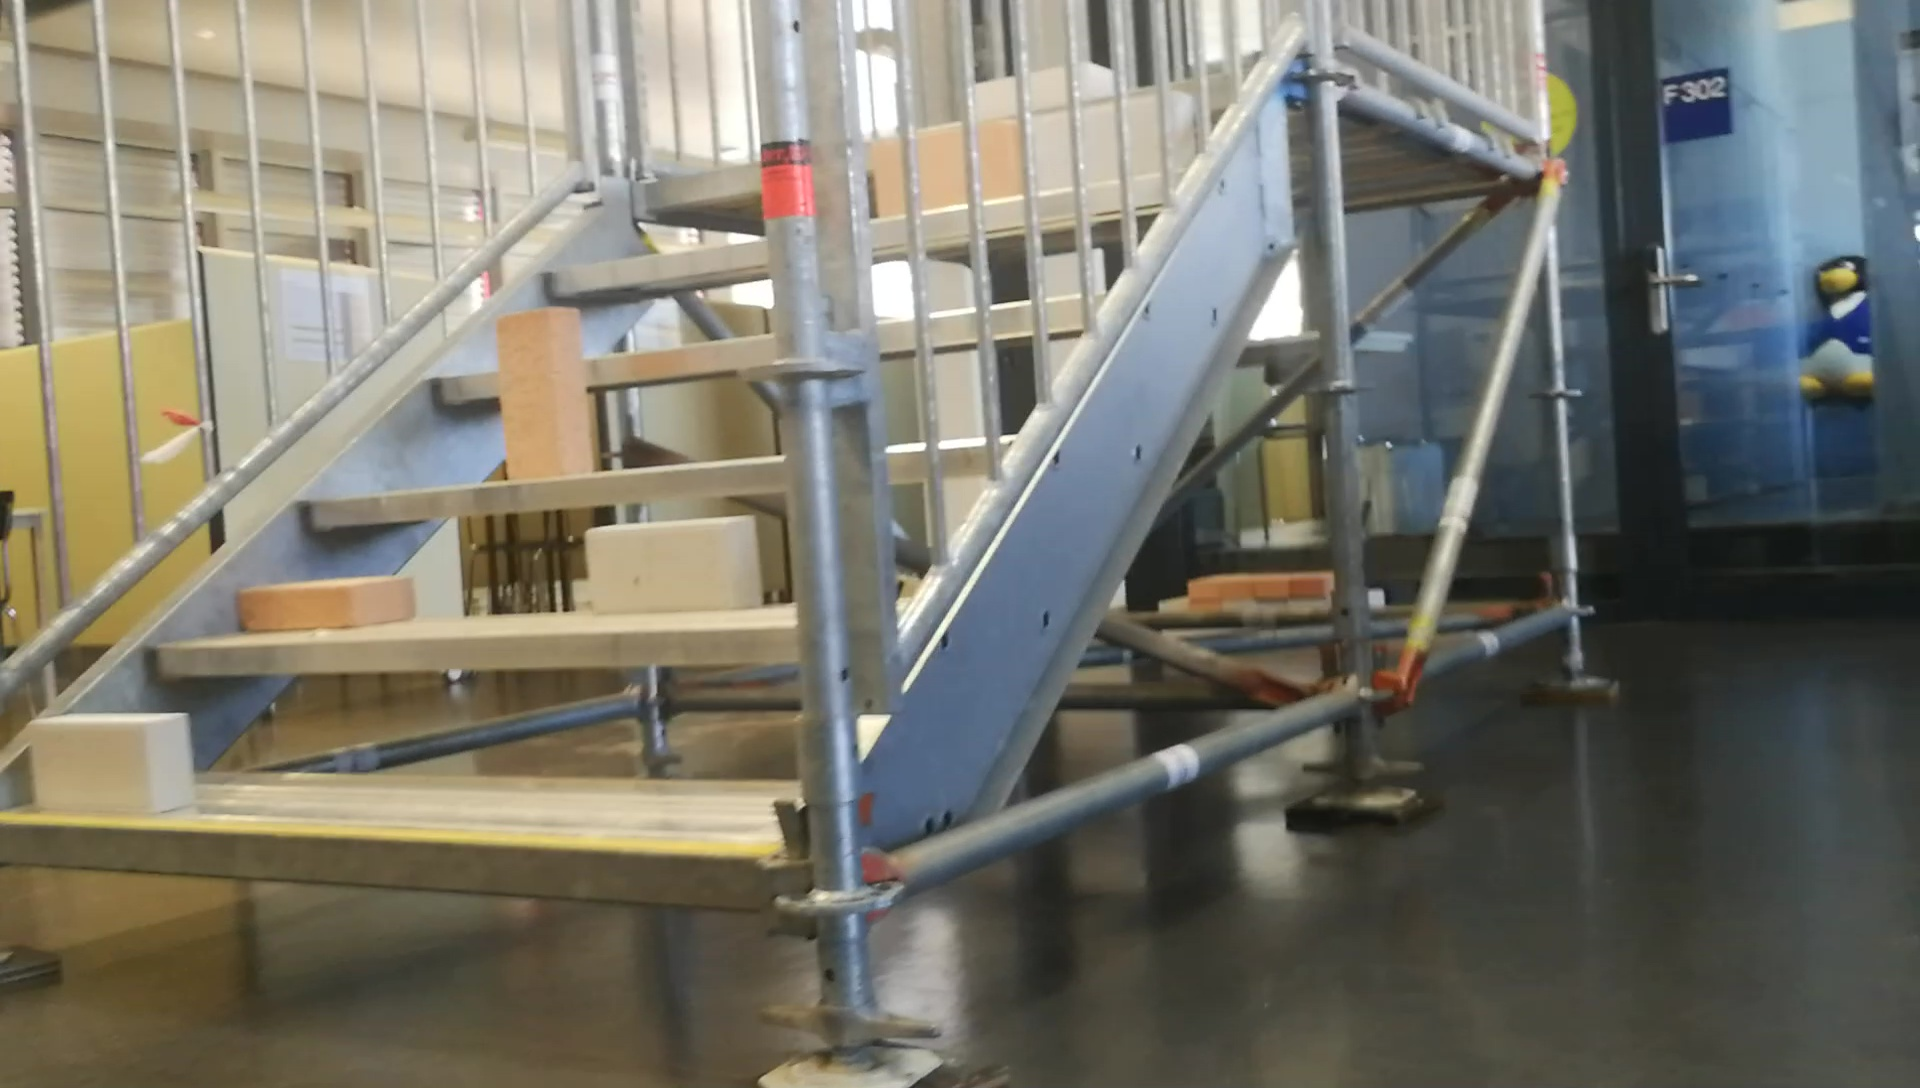brick: (588, 518, 760, 611), (500, 310, 591, 479), (33, 717, 190, 812), (240, 578, 407, 625)
edge: (5, 826, 781, 906), (152, 622, 808, 675)
stairs: (0, 3, 796, 1075)
